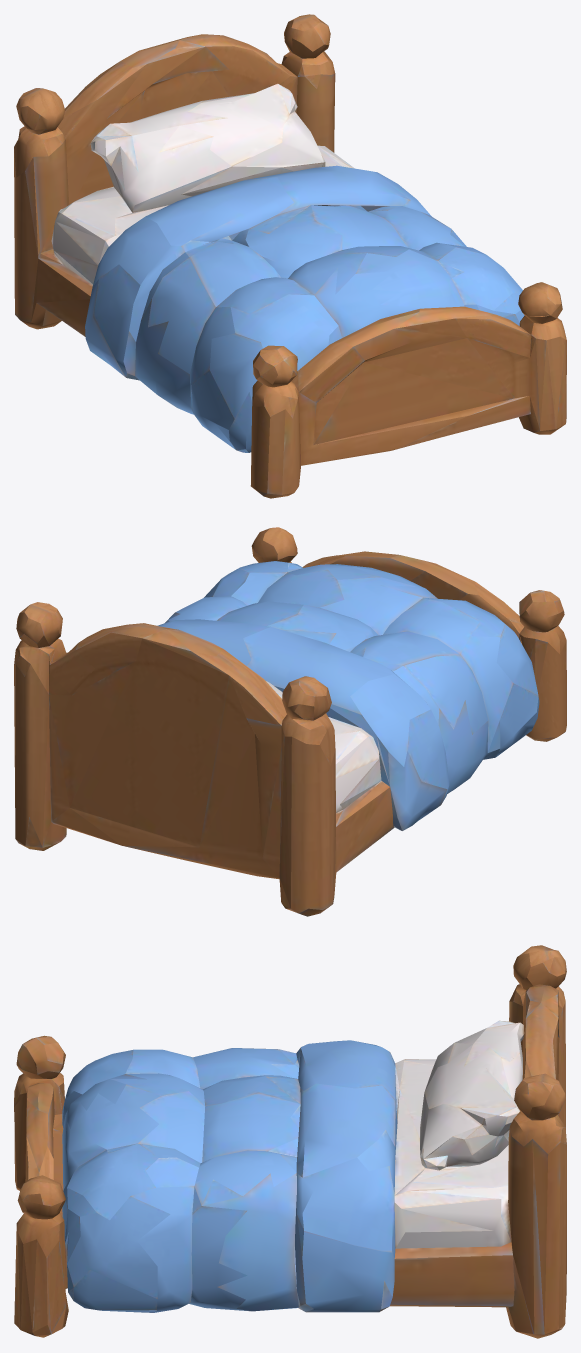
Rendered from bed.glb.
3 views of the same model, one above another, from view 1: azimuth 30°, elevation 25°; view 2: azimuth 150°, elevation 25°; view 3: azimuth 270°, elevation 25° (orthographic). The views are drawn at different scales.
Parts seen in each view (by area): view 1: bed-basic-fit; view 2: bed-basic-fit; view 3: bed-basic-fit.
Boxes of the visible parts, x1,y1,x2,y2 form: bed-basic-fit: (14,14,566,498); bed-basic-fit: (14,527,566,916); bed-basic-fit: (14,945,566,1338).
Bounding box in the file's own units: 2.17 × 1.56 × 2.96.
1 material, 1 textured.
